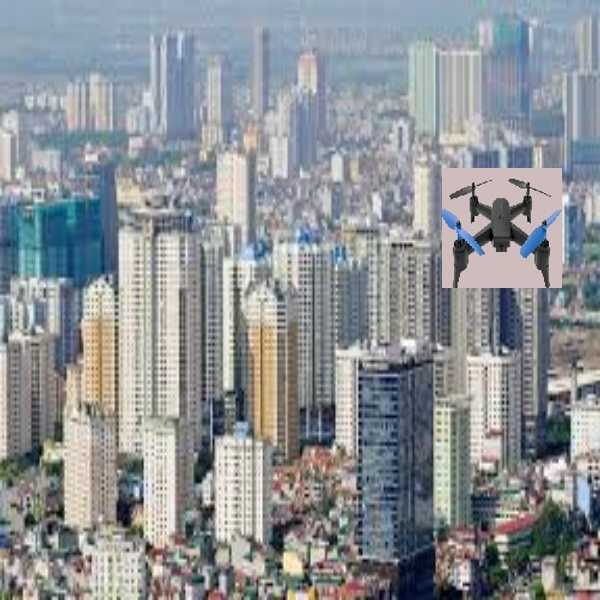drone: (444, 172, 563, 284)
